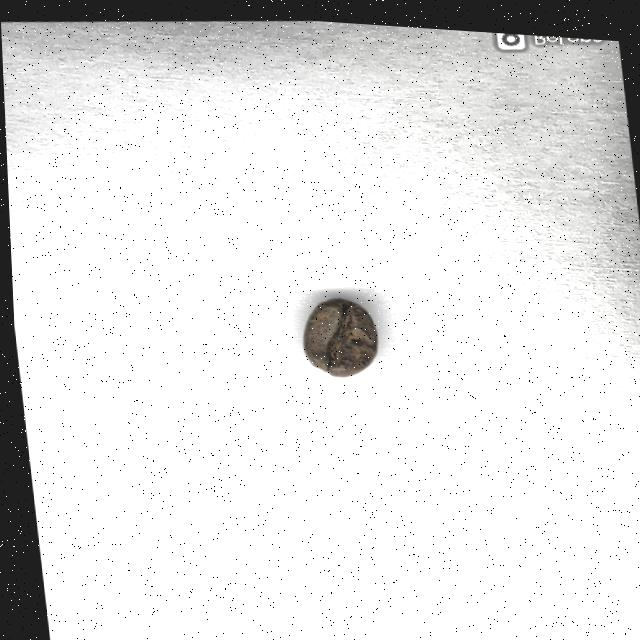Black: (293, 292, 380, 374)
